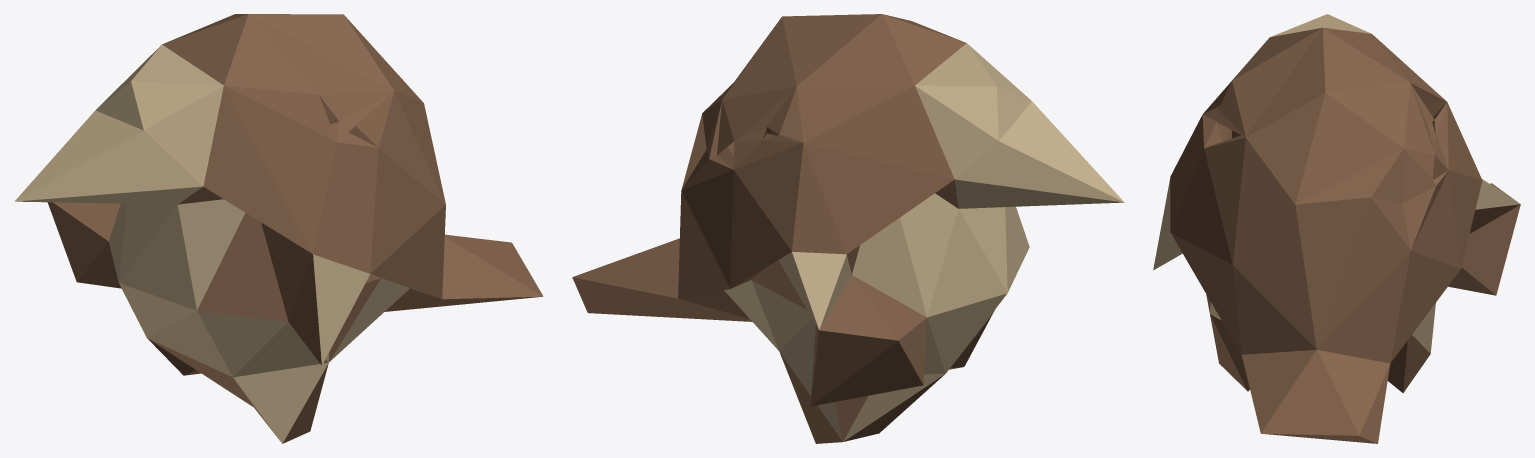
3 renders of one model, left to right at view 1: azimuth 30°, elevation 25°; view 2: azimuth 150°, elevation 25°; view 3: azimuth 270°, elevation 25°, orthographic. The views are drawn at different scales.
Visible parts, largest first — view 1: lion-200; view 2: lion-200; view 3: lion-200.
Part boxes in pixels (<box>): lion-200: <box>14,14,543,443</box>; lion-200: <box>572,14,1124,443</box>; lion-200: <box>1153,14,1520,443</box>.
Bounding box in the file's own units: 0.9827 × 0.712 × 0.6653.
